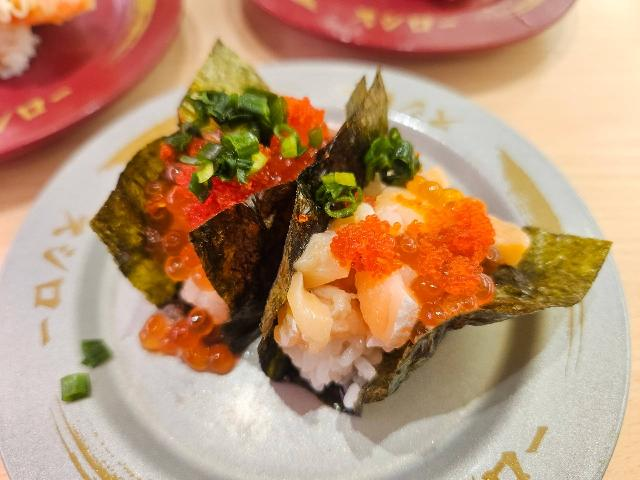janred: (240, 0, 580, 71), (0, 0, 173, 123)
janwhite: (46, 149, 633, 480)
